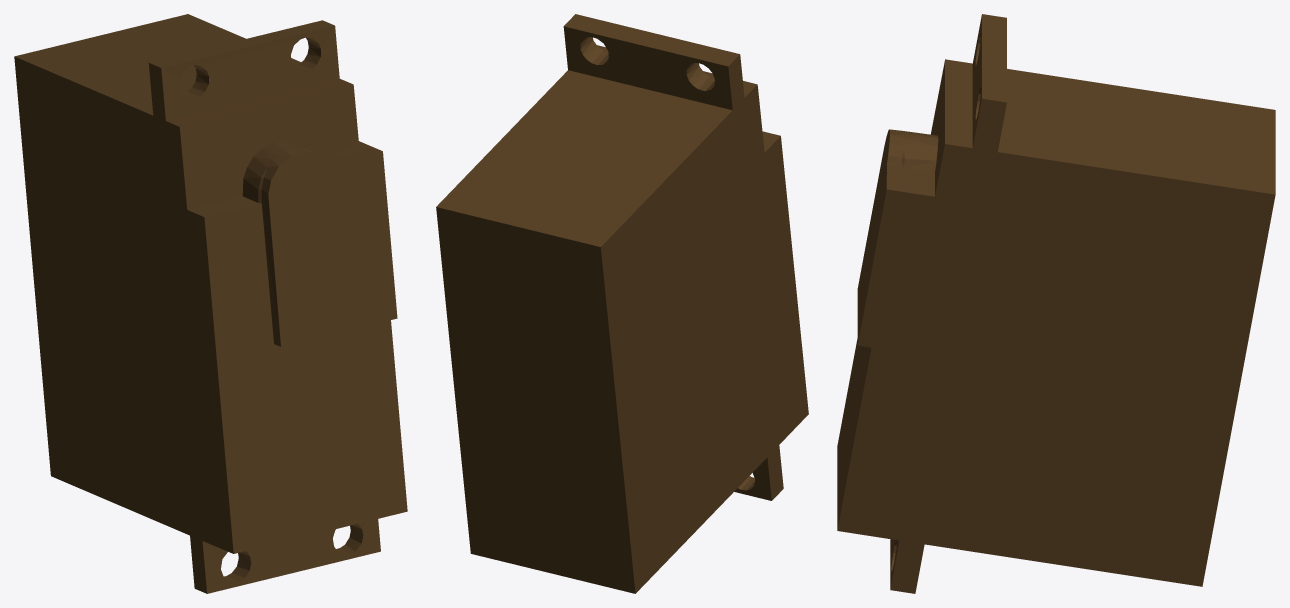
The model's file is right_elbow_x_link_visual_9.obj.
The picture shows the model from 3 angles, left to right: view 1: azimuth 30°, elevation 25°; view 2: azimuth 150°, elevation 25°; view 3: azimuth 270°, elevation 25°; orthographic projection. The views are drawn at different scales.
Parts seen in each view (by area): view 1: i01.right.bicep.full.010_visual.001; view 2: i01.right.bicep.full.010_visual.001; view 3: i01.right.bicep.full.010_visual.001.
Part boxes in pixels (x1=…): i01.right.bicep.full.010_visual.001: x1=14, y1=14, x2=407, y2=593; i01.right.bicep.full.010_visual.001: x1=436, y1=14, x2=808, y2=593; i01.right.bicep.full.010_visual.001: x1=837, y1=14, x2=1275, y2=593.
Size of the model in its own units: 0.2829 by 0.7706 by 0.618.
